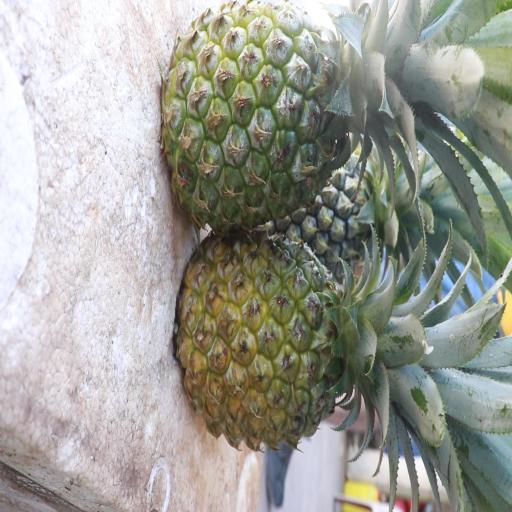------------------------------: (165, 6, 418, 222)
Pineapple - v8 v1: (185, 226, 418, 466)
